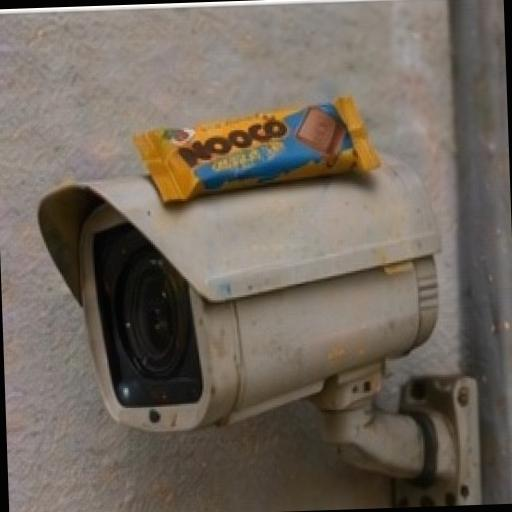biscuit-detection: (113, 78, 406, 300)
